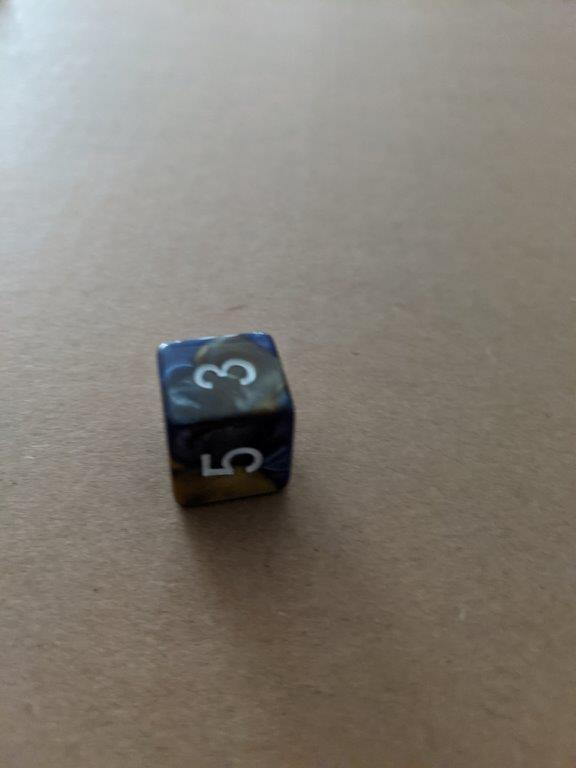d6-3: (154, 331, 299, 511)
